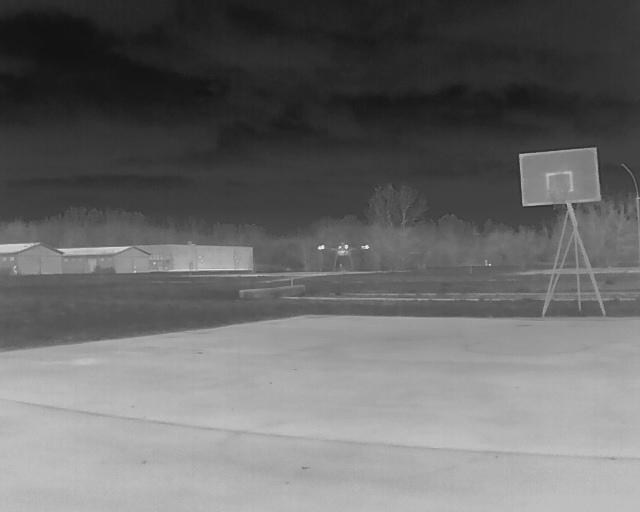drone: (307, 231, 376, 282)
